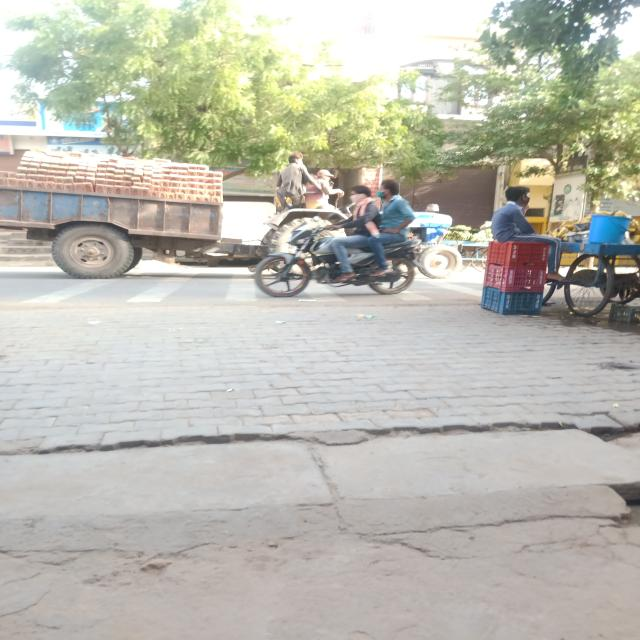Bike: (249, 213, 427, 303)
tractor: (3, 152, 468, 276)
